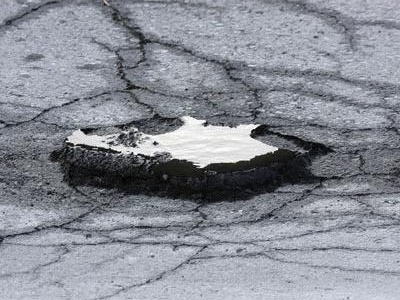pothole: (46, 109, 335, 211)
